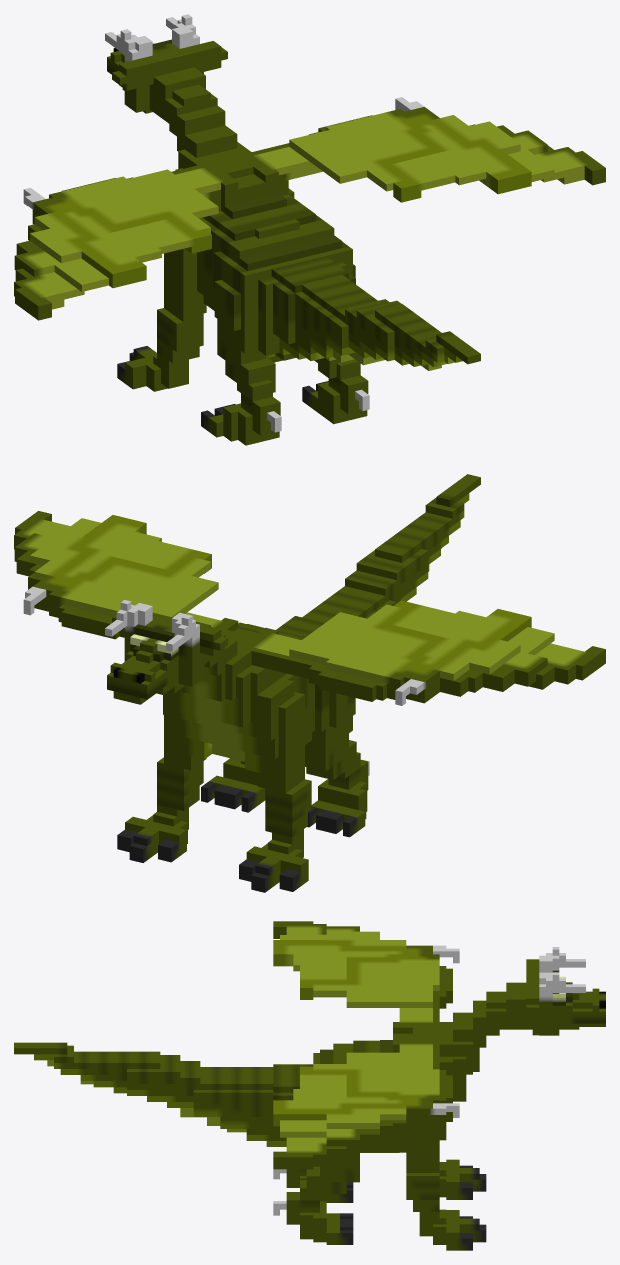
Rendered from green_dragon.fbx.
3 renders of one model, top to bottom at view 1: azimuth 30°, elevation 25°; view 2: azimuth 150°, elevation 25°; view 3: azimuth 270°, elevation 25°, orthographic. The views are drawn at different scales.
Visible parts, largest first — view 1: green_dragon; view 2: green_dragon; view 3: green_dragon.
Boxes of the visible parts, x1,y1,x2,y2 form: green_dragon: (14,14,605,445); green_dragon: (14,474,605,892); green_dragon: (14,921,605,1250).
Bounding box in the file's own units: 84 × 42 × 89.
1 material, 1 textured.
